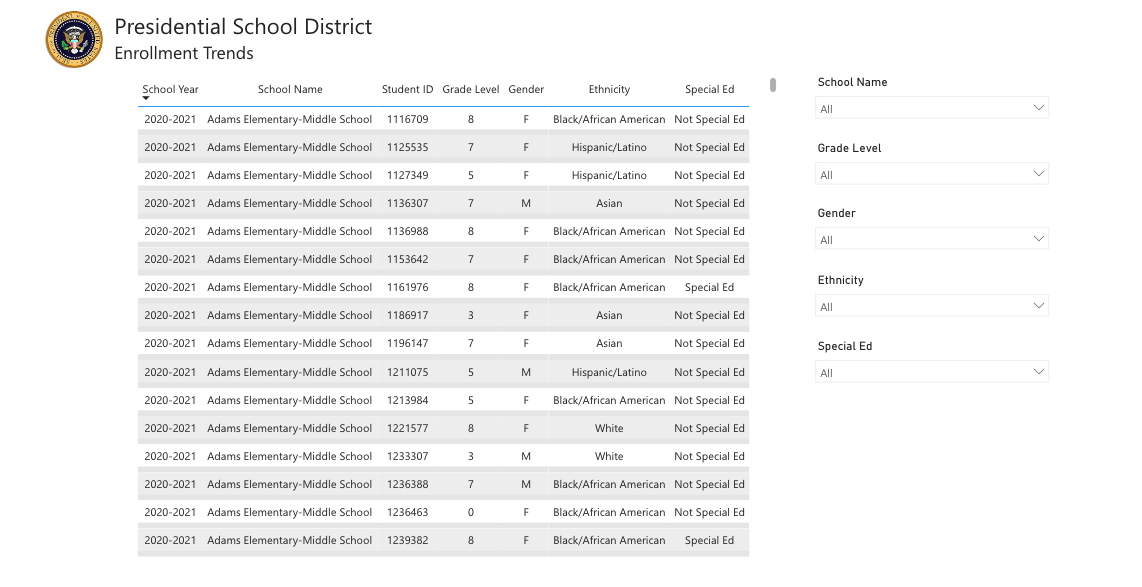

This screenshot's page, from the dashboard's own definition file:
{"tool":"powerbi","page":{"name":"Student List","canvas":[1280,720],"ordinal":1},"visuals":[{"type":"slicer","fields":{"Values":["Enrollment_List.school_name"]},"box":[930.7,97.4,303.3,65.5],"z":0},{"type":"slicer","fields":{"Values":["Enrollment_List.grade_level"]},"box":[930.7,177.2,303.3,65.5],"z":1000},{"type":"textbox","box":[17,649.5,83.3,47.3],"z":2000},{"type":"image","box":[0,15.4,86.9,81.1],"z":3000},{"type":"textbox","box":[86.9,15.4,357.2,84.9],"z":4000},{"type":"tableEx","fields":{"Values":["Enrollment_List.year","Enrollment_List.school_name","Enrollment_List.student_id","Sum(Enrollment_List.grade_level)","Demographics_List.gender","Demographics_List.ethnicity","Demographics_List.special_ed"]},"box":[114.9,97.4,783.9,597.1],"z":5000},{"type":"slicer","fields":{"Values":["Demographics_List.gender"]},"box":[930.7,255.4,303.3,65.5],"z":6000},{"type":"slicer","fields":{"Values":["Demographics_List.ethnicity"]},"box":[930.7,336.9,303.3,65.5],"z":7000},{"type":"slicer","fields":{"Values":["Demographics_List.special_ed"]},"box":[930.7,416.7,303.3,65.5],"z":8000}]}

Visuals, with their boxes on the page's 1280x720 design canvas (x1, y1, x2, y2). These are canvas units, not pixel positions in the 1142x587 screenshot, which may show the page scaled, cropped or inside an application window:
slicer - Enrollment_List.school_name: rect(931, 97, 1234, 163)
slicer - Enrollment_List.grade_level: rect(931, 177, 1234, 243)
textbox: rect(17, 650, 100, 697)
image: rect(0, 15, 87, 96)
textbox: rect(87, 15, 444, 100)
tableEx - Enrollment_List.year x Enrollment_List.school_name: rect(115, 97, 899, 694)
slicer - Demographics_List.gender: rect(931, 255, 1234, 321)
slicer - Demographics_List.ethnicity: rect(931, 337, 1234, 402)
slicer - Demographics_List.special_ed: rect(931, 417, 1234, 482)
